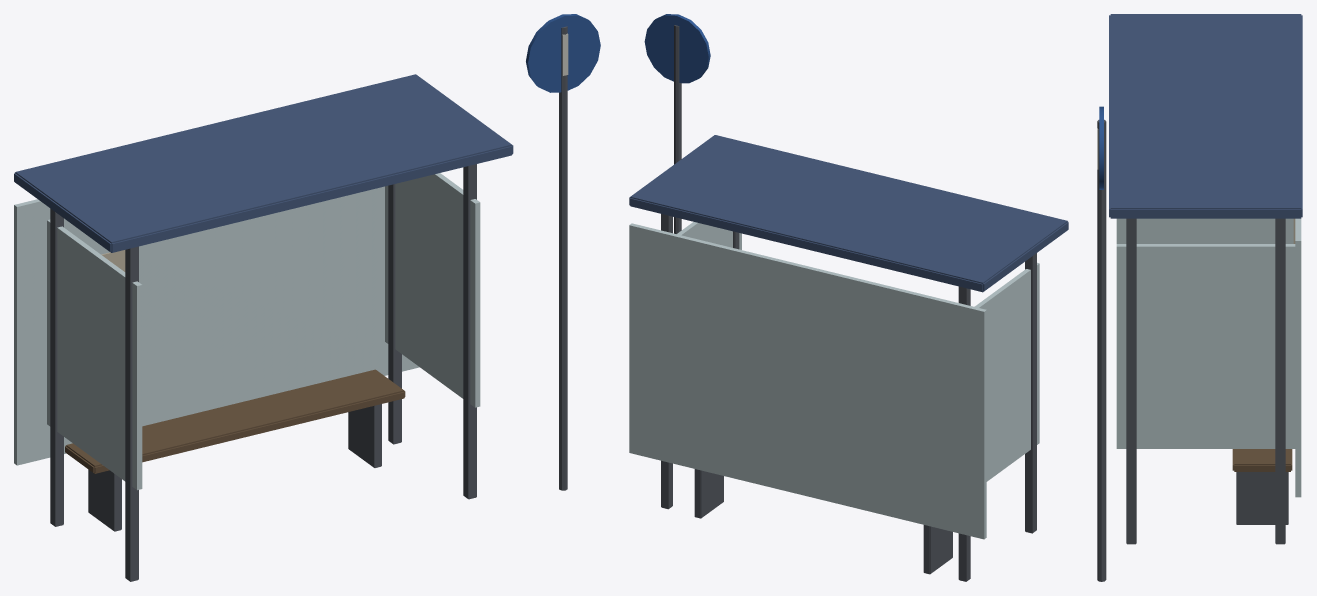
File: bus_stop.glb
3 views of the same model, side by side, from view 1: azimuth 30°, elevation 25°; view 2: azimuth 150°, elevation 25°; view 3: azimuth 270°, elevation 25° (orthographic). The views are drawn at different scales.
Parts seen in each view (by area): view 1: stop_mesh; view 2: stop_mesh; view 3: stop_mesh.
Part boxes in pixels (x1,y1,x2,y2): stop_mesh: (14,14,600,581); stop_mesh: (629,14,1068,581); stop_mesh: (1097,14,1302,581).
Size of what is drawn, in the model's own units: 3.73 by 3.48 by 1.38.
